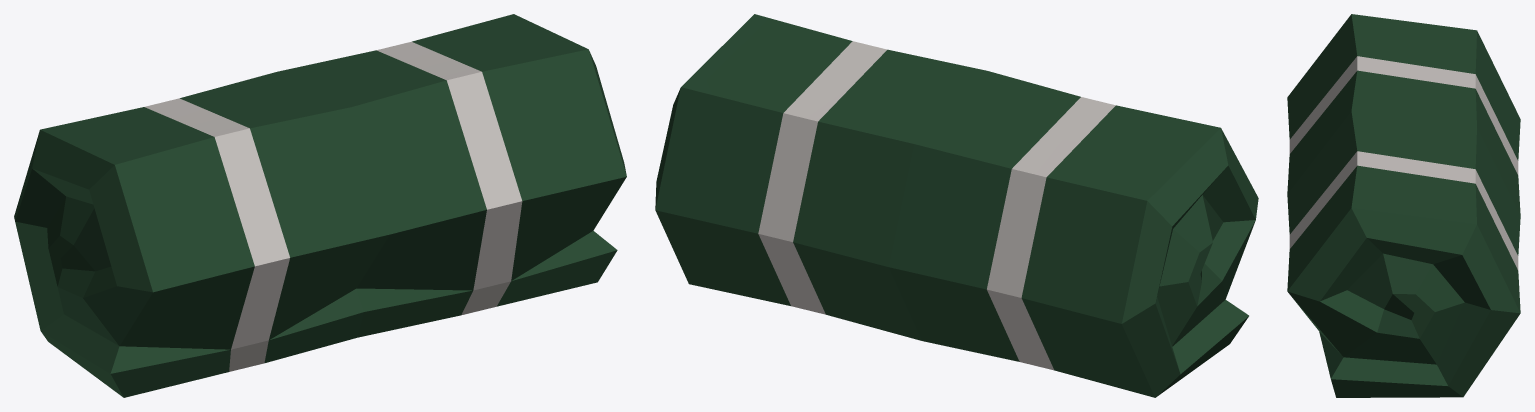
Rendered from sleeping-bag.glb.
3 views of the same model, side by side, from view 1: azimuth 30°, elevation 25°; view 2: azimuth 150°, elevation 25°; view 3: azimuth 270°, elevation 25° (orthographic). The views are drawn at different scales.
Parts seen in each view (by area): view 1: sleeping-bag; view 2: sleeping-bag; view 3: sleeping-bag.
Part boxes in pixels (left/top/right/bottom): sleeping-bag: left=14, top=14, right=626, bottom=397; sleeping-bag: left=655, top=14, right=1258, bottom=397; sleeping-bag: left=1287, top=14, right=1520, bottom=397.
Size of the model in its own units: 0.52 by 0.2221 by 0.247.
1 material, 1 textured.
